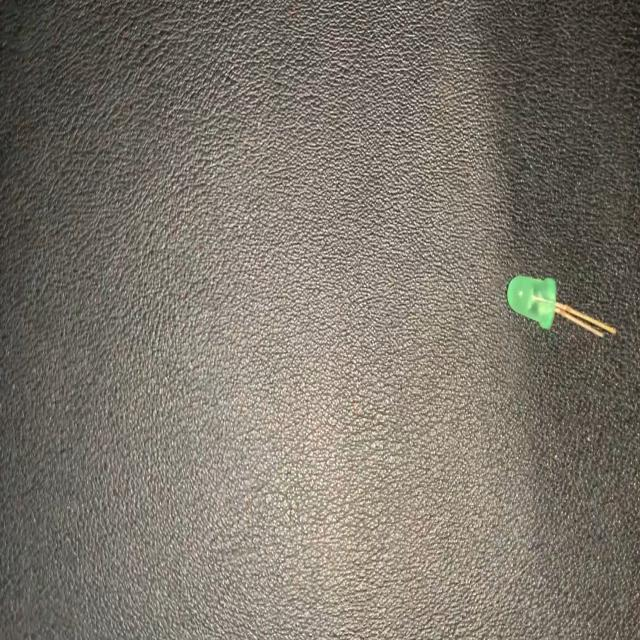LED: (507, 272, 617, 350)
